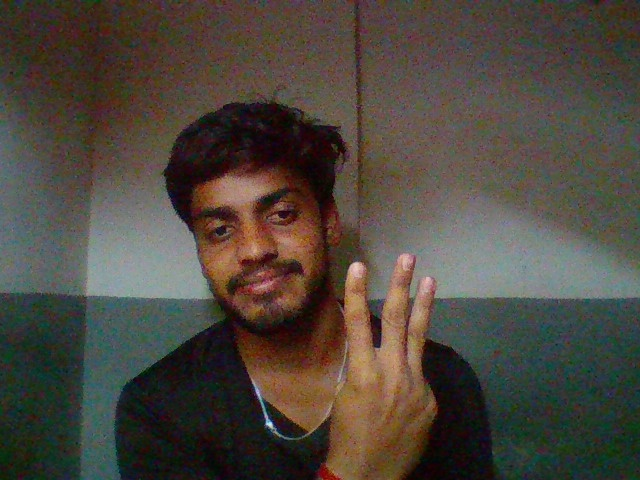W: (334, 245, 454, 473)
